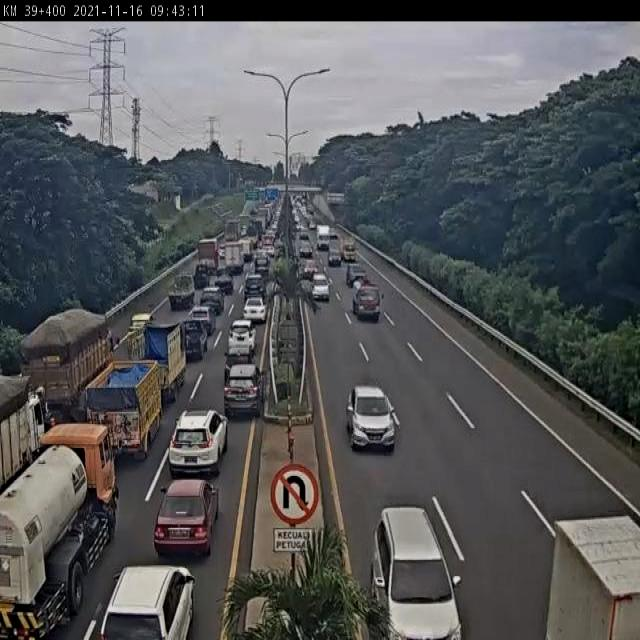Car: (369, 505, 462, 638), (97, 564, 197, 638), (153, 478, 220, 559), (169, 408, 229, 478), (346, 383, 396, 452), (223, 362, 265, 418), (351, 282, 382, 322), (182, 318, 210, 362), (227, 323, 257, 359), (189, 305, 216, 338), (199, 286, 224, 315), (243, 296, 267, 324), (243, 273, 264, 299), (311, 274, 330, 302), (345, 263, 366, 288), (213, 274, 233, 296), (254, 254, 270, 278), (299, 241, 313, 258), (328, 250, 341, 266)
Truck: (0, 442, 109, 640), (18, 310, 114, 426), (84, 361, 164, 462), (138, 321, 190, 404), (168, 272, 195, 310), (197, 237, 220, 275), (222, 242, 245, 272), (317, 225, 330, 251)
